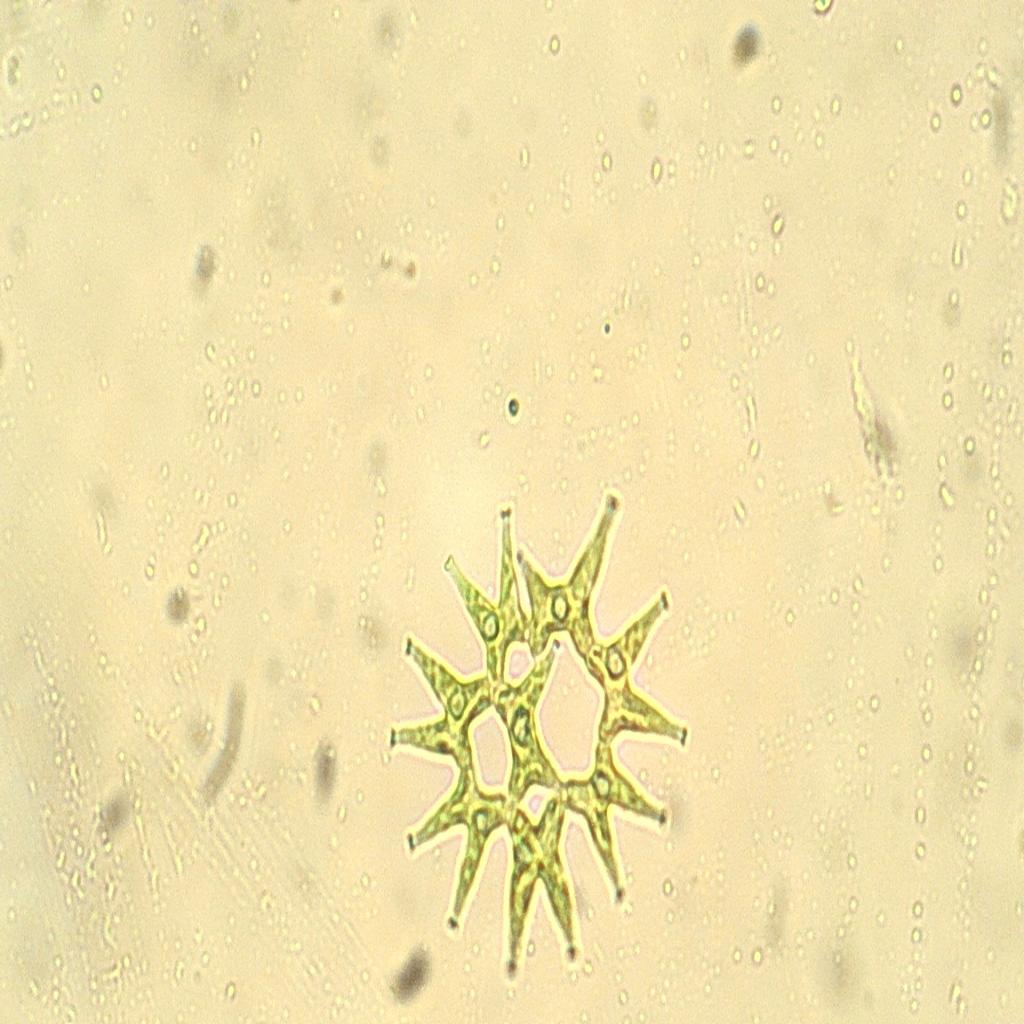Pediastrum_1T: (374, 472, 701, 998)
